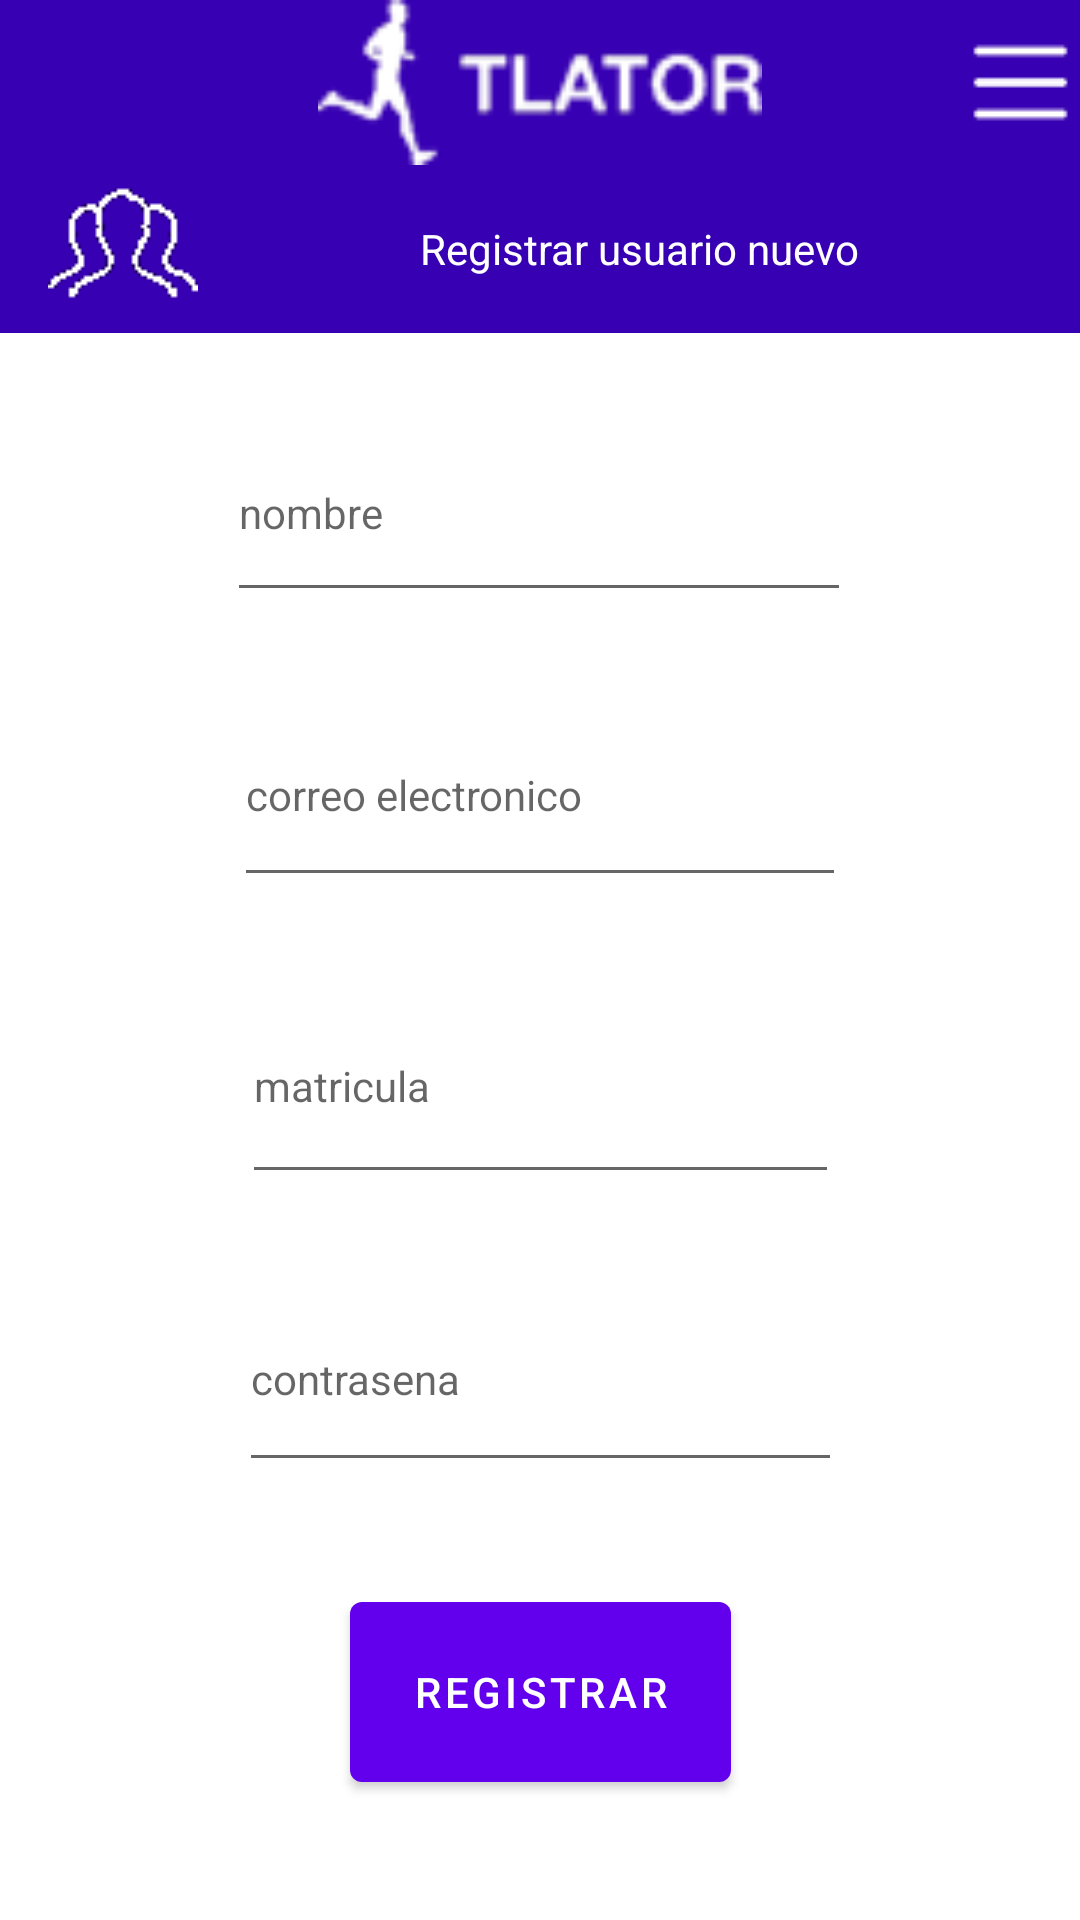

Icons on this 1080×1920 Android screen, each with the point to tap as [x,y]:
menu: [1020,82]
users: [123,243]
